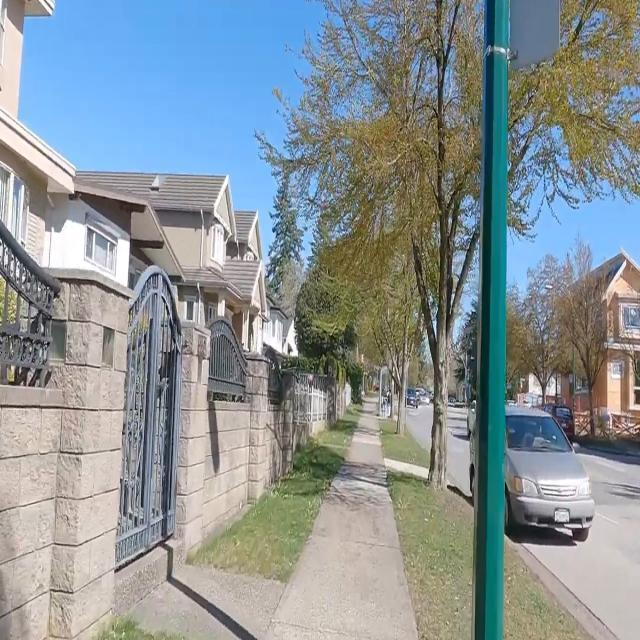Automobile: (505, 406, 594, 540), (545, 403, 573, 441), (469, 420, 478, 504), (416, 388, 430, 404), (407, 389, 416, 408)
Road: (522, 451, 639, 639), (448, 408, 468, 493), (407, 406, 431, 451)
Sidewalk: (268, 397, 415, 639), (264, 415, 417, 639), (129, 564, 283, 639)
